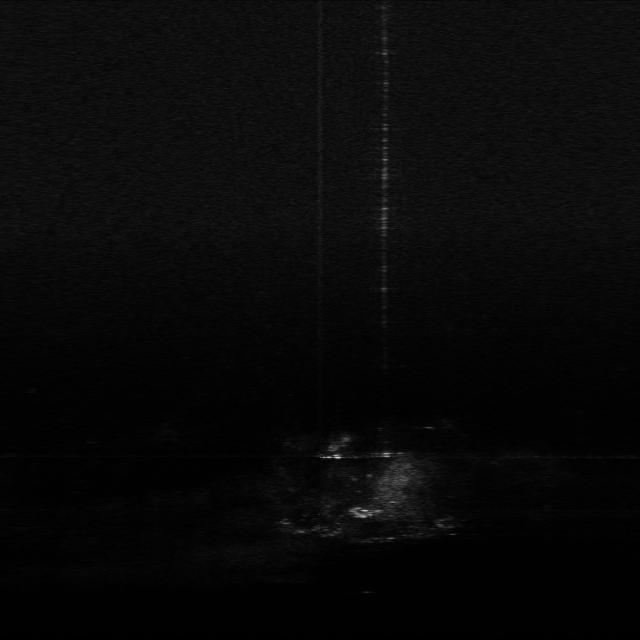rov: (348, 504, 382, 518)
